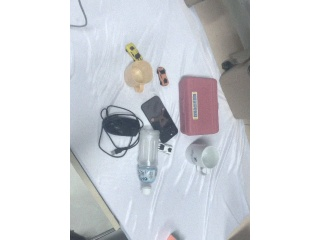bottle: (136, 130, 163, 197)
box: (177, 75, 220, 137)
cup: (123, 59, 154, 93), (184, 143, 220, 172)
mouse: (102, 114, 141, 137)
phone: (140, 95, 179, 144)
toy_car: (123, 39, 143, 61), (156, 66, 169, 86), (159, 143, 173, 154)
